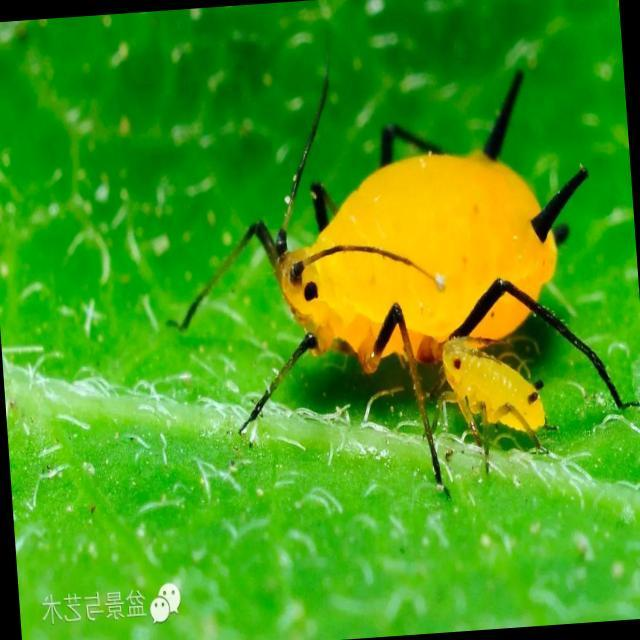aphid: (165, 44, 612, 462), (434, 313, 555, 468)
